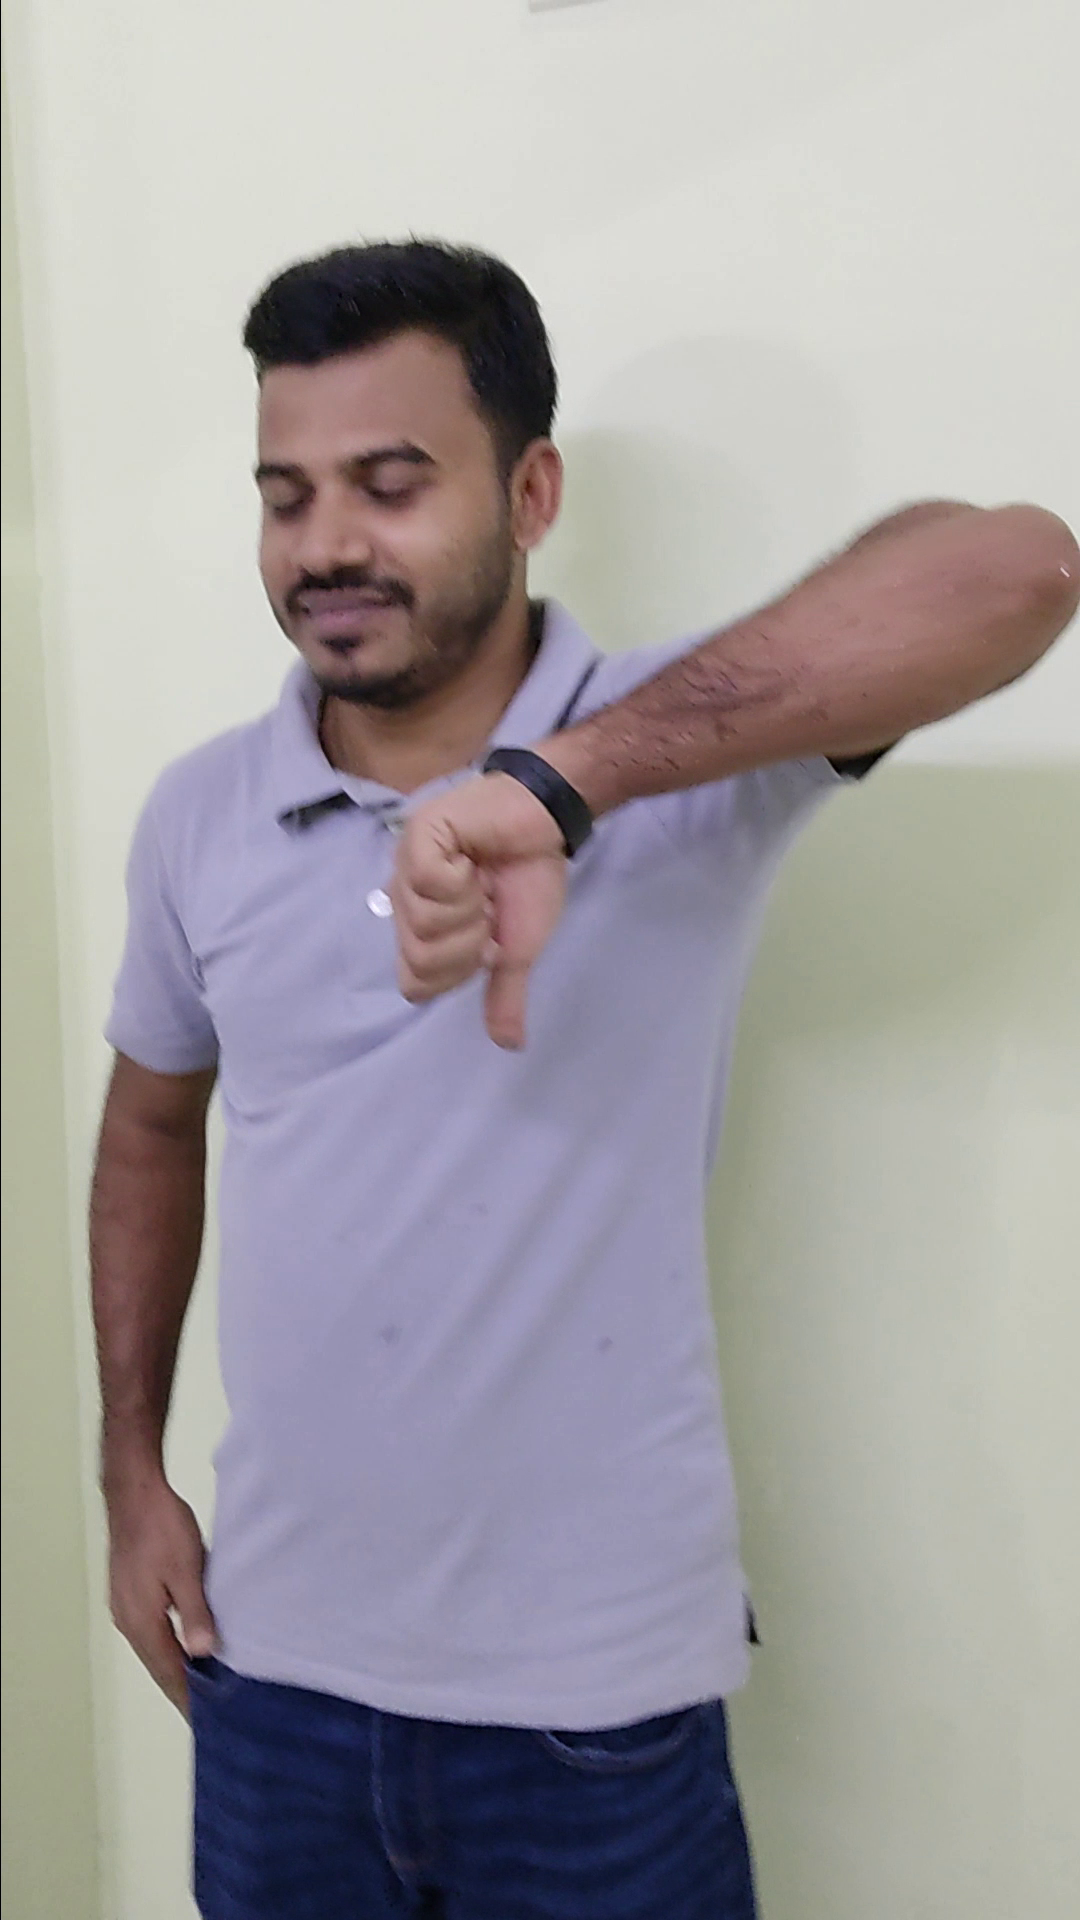Dislike: (359, 735, 585, 1065)
None: (76, 1436, 225, 1729)
